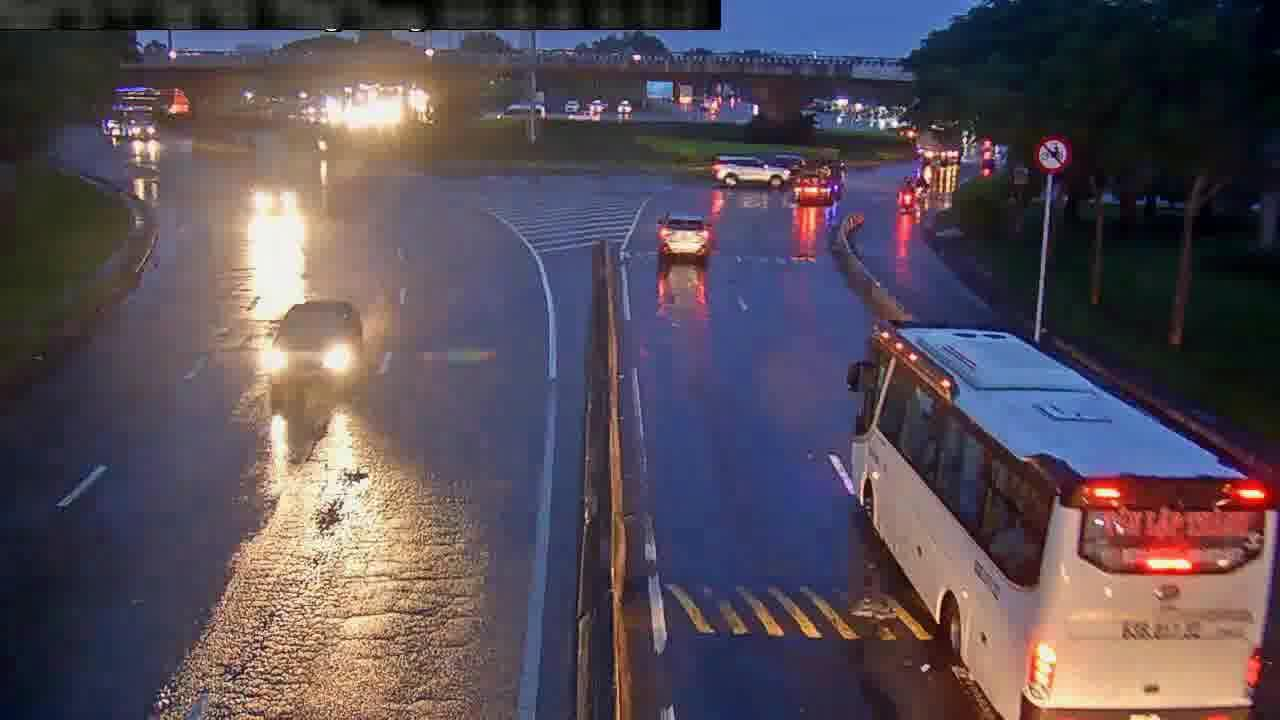car: (271, 300, 366, 383), (711, 154, 794, 193), (656, 211, 710, 264)
container: (793, 150, 846, 205)
passenger_car: (842, 319, 1271, 720)
